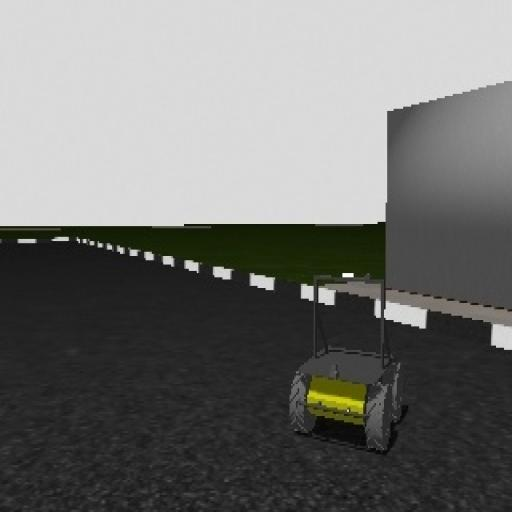huskya200: (274, 262, 407, 462)
